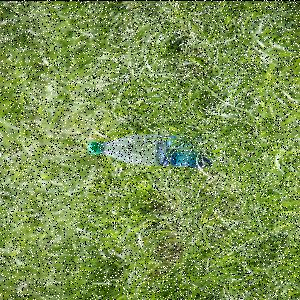Plastic-bottle: (88, 134, 208, 167)
